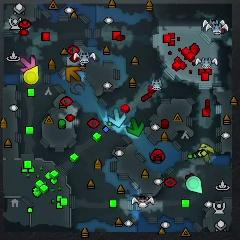p2: (186, 176, 202, 194)
p4: (24, 66, 39, 84)
x1: (19, 56, 36, 73)
x2: (198, 143, 214, 162)
x3: (108, 108, 126, 127)
x4: (126, 118, 144, 137)
x5: (65, 66, 82, 82)
